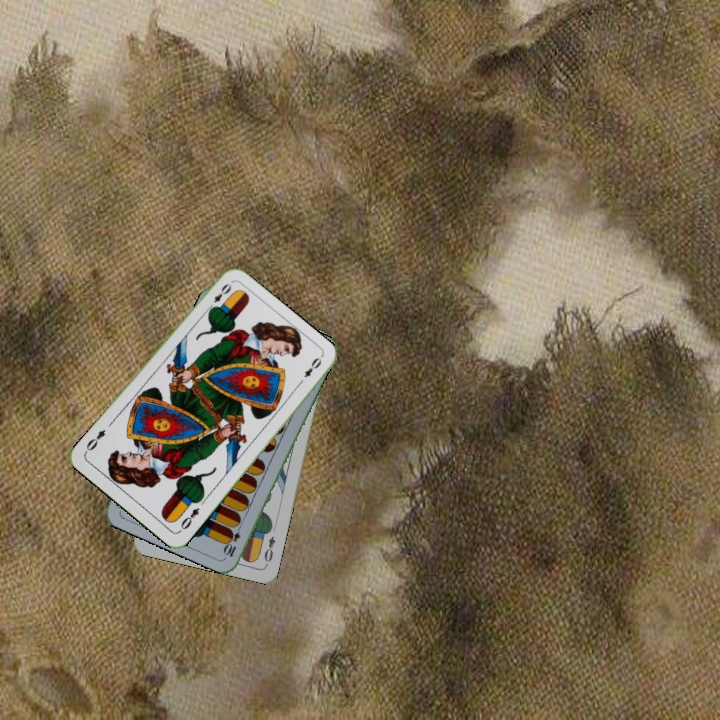E10: (221, 520, 244, 559)
EO: (204, 279, 234, 313), (176, 503, 202, 532), (260, 532, 278, 568)
